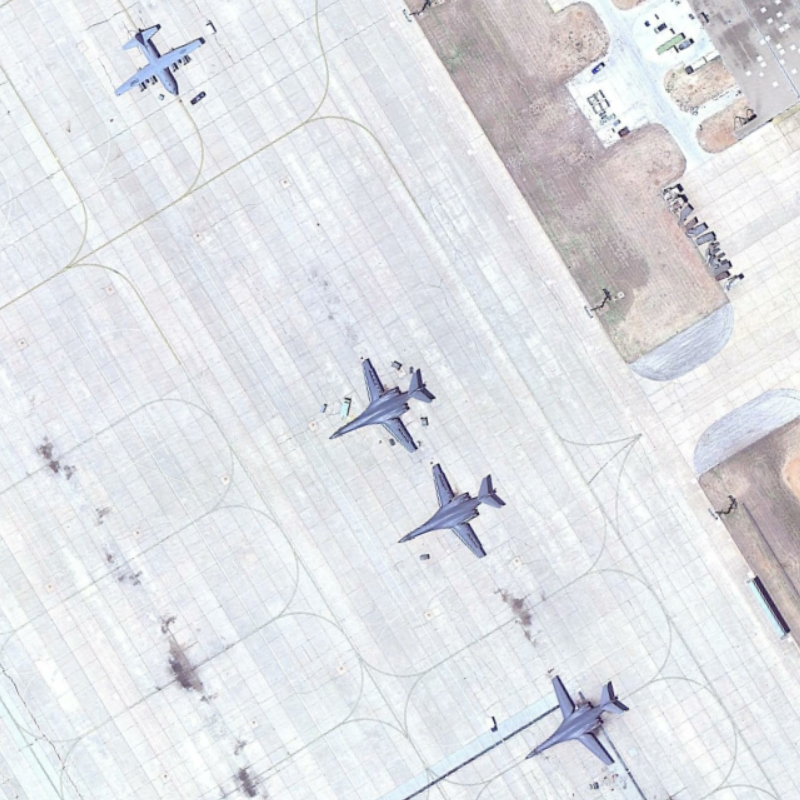A10: (519, 662, 635, 781), (326, 350, 441, 460), (394, 461, 514, 562)
A2: (107, 11, 211, 107)
